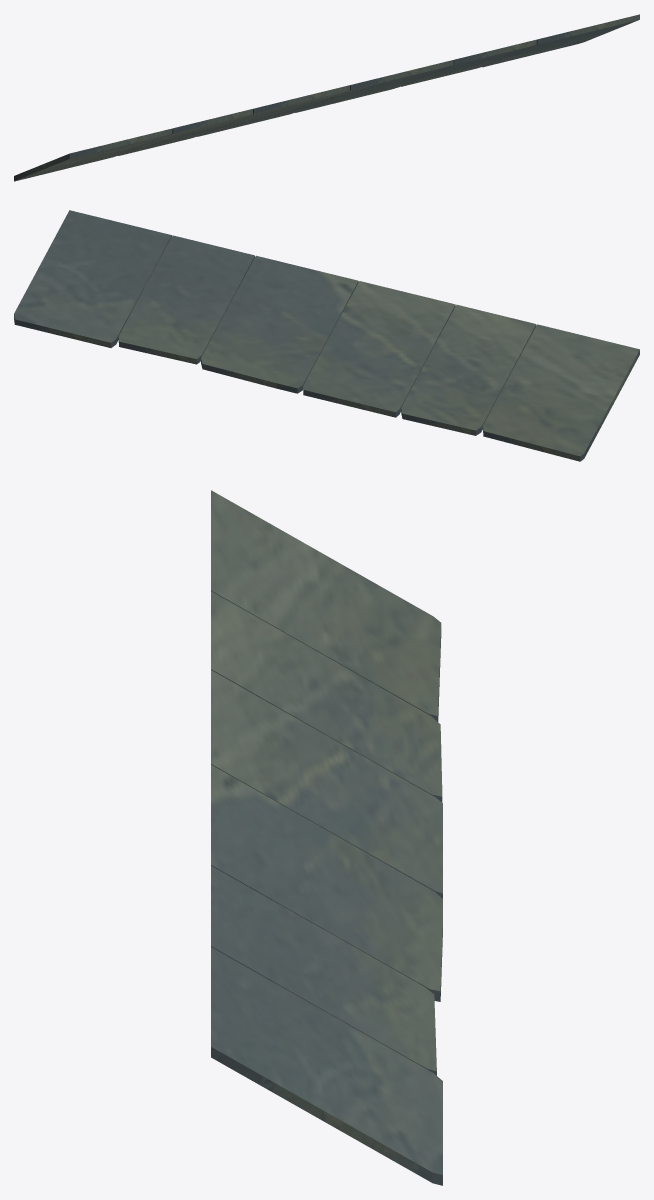
Rendered from CM_SlateRoofKit01_Course2m_35.fbx.
3 renders of one model, top to bottom at view 1: azimuth 30°, elevation 25°; view 2: azimuth 150°, elevation 25°; view 3: azimuth 270°, elevation 25°, orthographic. The views are drawn at different scales.
Visible parts, largest first — view 1: CM_SlateRoofKit01_Course2m_35_Slate; view 2: CM_SlateRoofKit01_Course2m_35_Slate; view 3: CM_SlateRoofKit01_Course2m_35_Slate.
Part boxes in pixels (bbox=[...]): CM_SlateRoofKit01_Course2m_35_Slate: bbox=[14, 14, 639, 181]; CM_SlateRoofKit01_Course2m_35_Slate: bbox=[14, 210, 639, 461]; CM_SlateRoofKit01_Course2m_35_Slate: bbox=[211, 490, 442, 1185].
Size of the model in its own units: 2 by 0.2386 by 0.3522.
